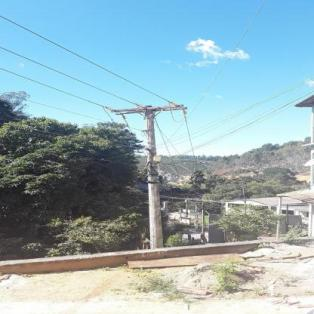Poste: (134, 102, 168, 247)
